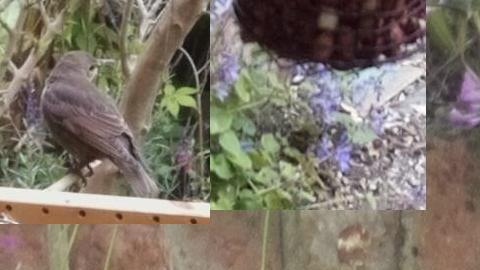starling: (40, 50, 160, 198)
